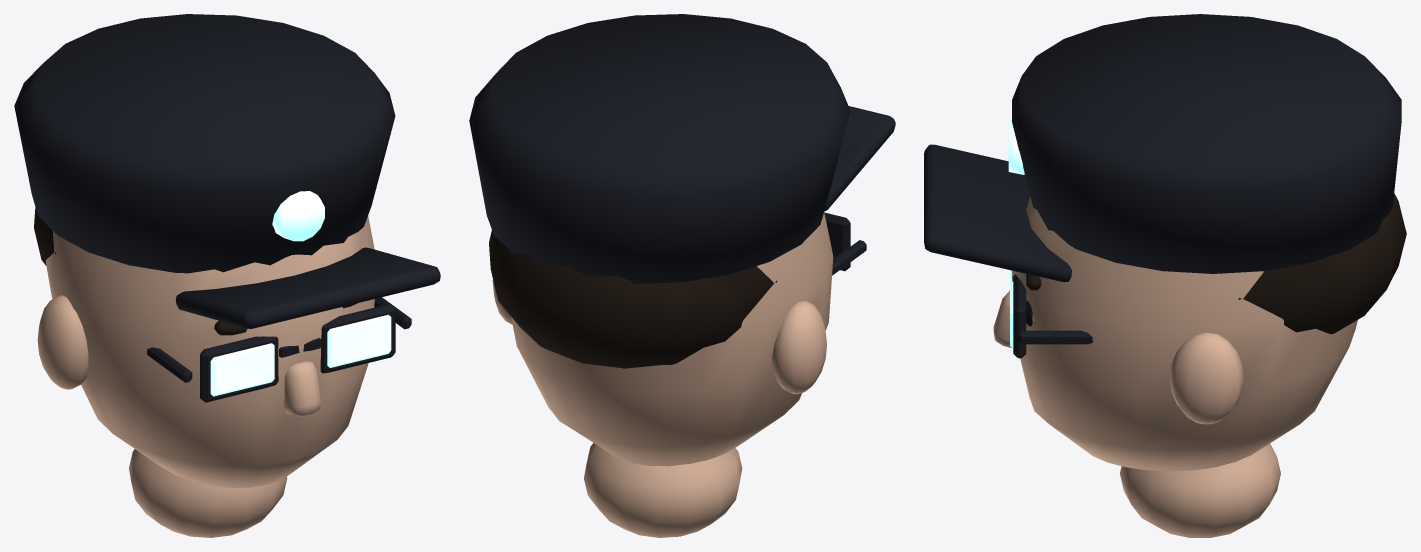
File: coder_head_11.glb
The picture shows the model from 3 angles, left to right: view 1: azimuth 30°, elevation 25°; view 2: azimuth 150°, elevation 25°; view 3: azimuth 270°, elevation 25°; orthographic projection.
Parts seen in each view (by area): view 1: CoderPart; view 2: CoderPart; view 3: CoderPart.
Boxes of the visible parts, box(x1,y1,x2,y2) form: CoderPart: box(14, 14, 440, 537); CoderPart: box(469, 14, 895, 537); CoderPart: box(924, 14, 1406, 537).
Size of the model in its own units: 0.236 by 0.303 by 0.2993.
